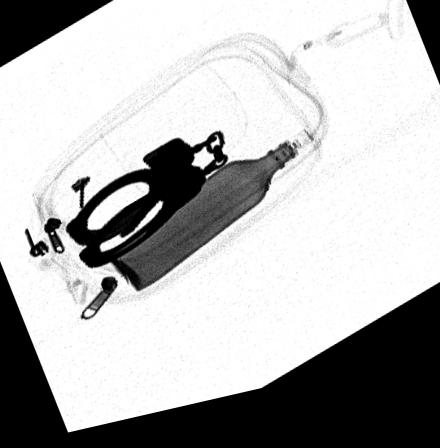HandCuffs: (64, 140, 228, 272)
